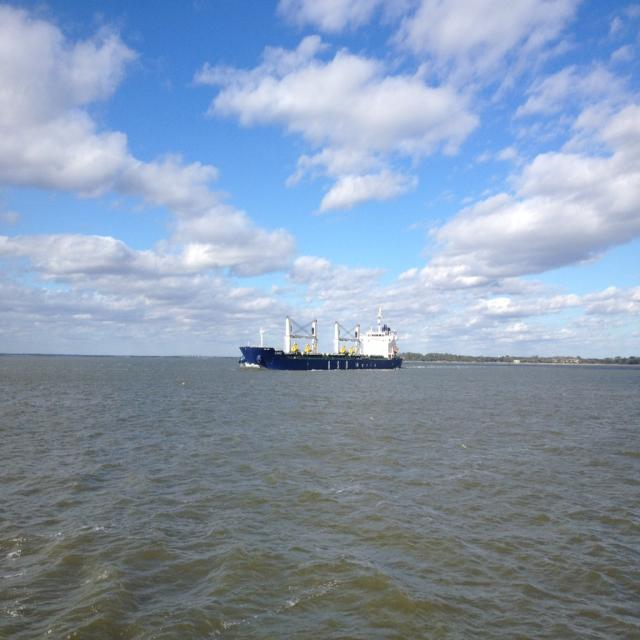Boat: (243, 307, 422, 377)
